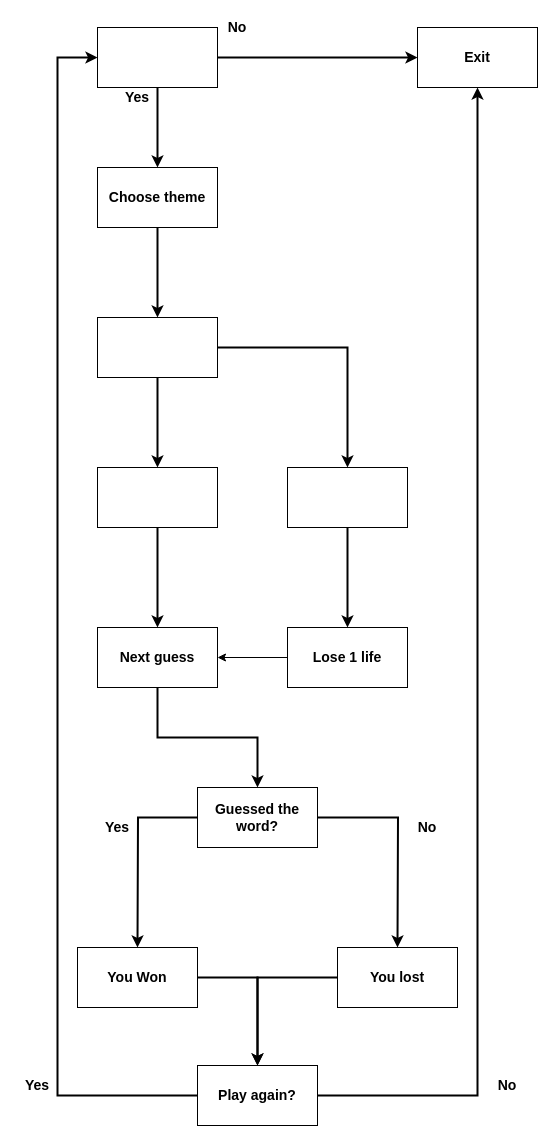
The diagram is 555 pixels wide and 1143 high, and some of its shapes have lost their labels. The box of each missing label's shape, as (x1, y1, x2, y2) in pixels:
Correct guess: (96, 466, 218, 528)
Guess a letter: (96, 316, 218, 378)
Incorrect guess: (286, 466, 408, 528)
Start game?: (96, 26, 218, 88)
